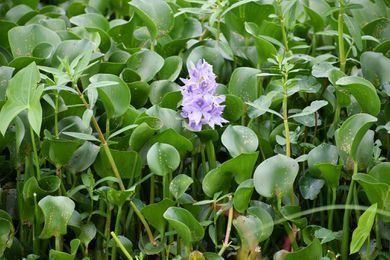water_hyacinth: (1, 0, 388, 259)
